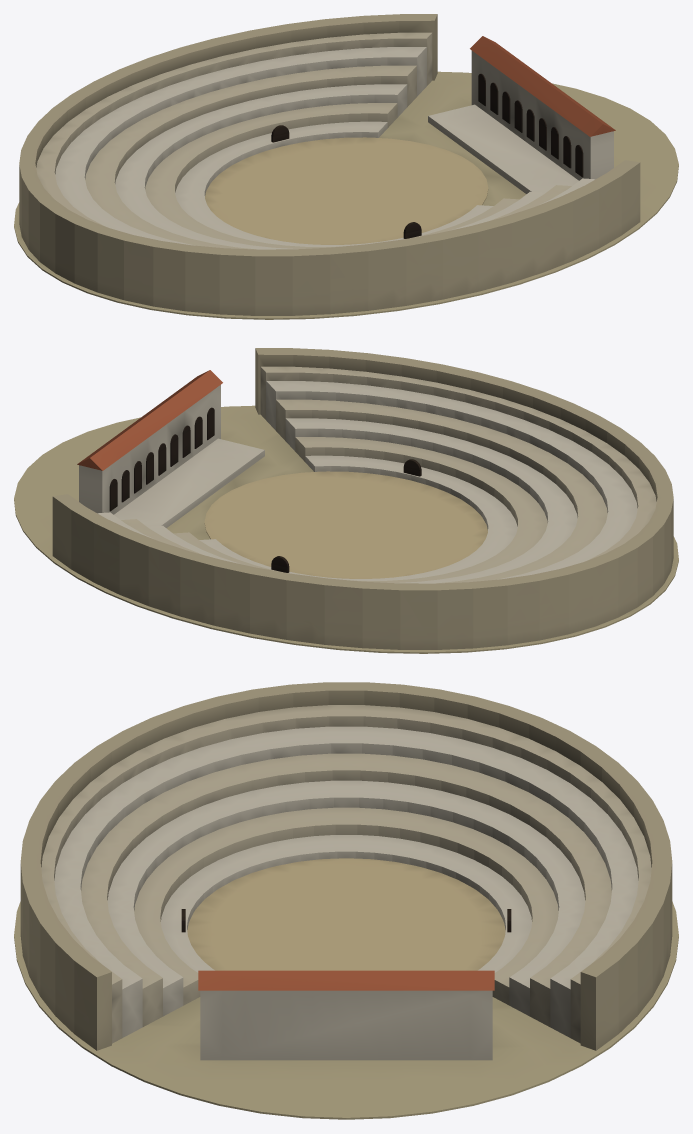
The model's file is arena.glb.
The picture shows the model from 3 angles, top to bottom: view 1: azimuth 30°, elevation 25°; view 2: azimuth 150°, elevation 25°; view 3: azimuth 270°, elevation 25°; orthographic projection. The views are drawn at different scales.
Parts seen in each view (by area): view 1: p1_cavea, p0_ground, p2_stage; view 2: p1_cavea, p0_ground, p2_stage; view 3: p1_cavea, p0_ground, p2_stage.
Part boxes in pixels (x1,y1,x2,y2): p1_cavea: (19, 14, 640, 315); p0_ground: (14, 71, 678, 319); p2_stage: (271, 36, 615, 238); p1_cavea: (52, 348, 673, 649); p0_ground: (14, 405, 678, 653); p2_stage: (77, 370, 421, 572); p1_cavea: (20, 682, 672, 1050); p0_ground: (14, 858, 678, 1119); p2_stage: (181, 909, 511, 1060).
Bounding box in the file's own units: 130 × 14 × 100.
